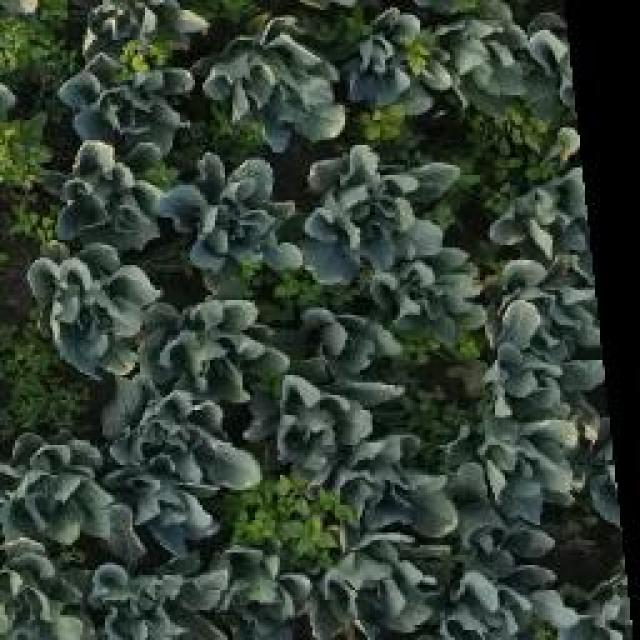cabbage: (111, 410, 253, 530), (319, 522, 432, 640), (51, 137, 175, 244), (1, 438, 113, 547), (34, 250, 140, 362), (458, 0, 582, 95), (452, 437, 568, 538), (314, 156, 423, 263), (160, 296, 276, 396), (62, 49, 182, 145), (217, 36, 332, 132), (440, 549, 560, 640), (338, 444, 444, 544), (182, 168, 286, 266), (496, 144, 592, 250), (301, 303, 405, 399), (380, 238, 480, 334), (218, 539, 314, 639), (108, 549, 210, 640), (346, 9, 443, 101), (274, 384, 361, 482), (499, 254, 598, 336), (476, 345, 565, 427), (0, 561, 88, 640)
